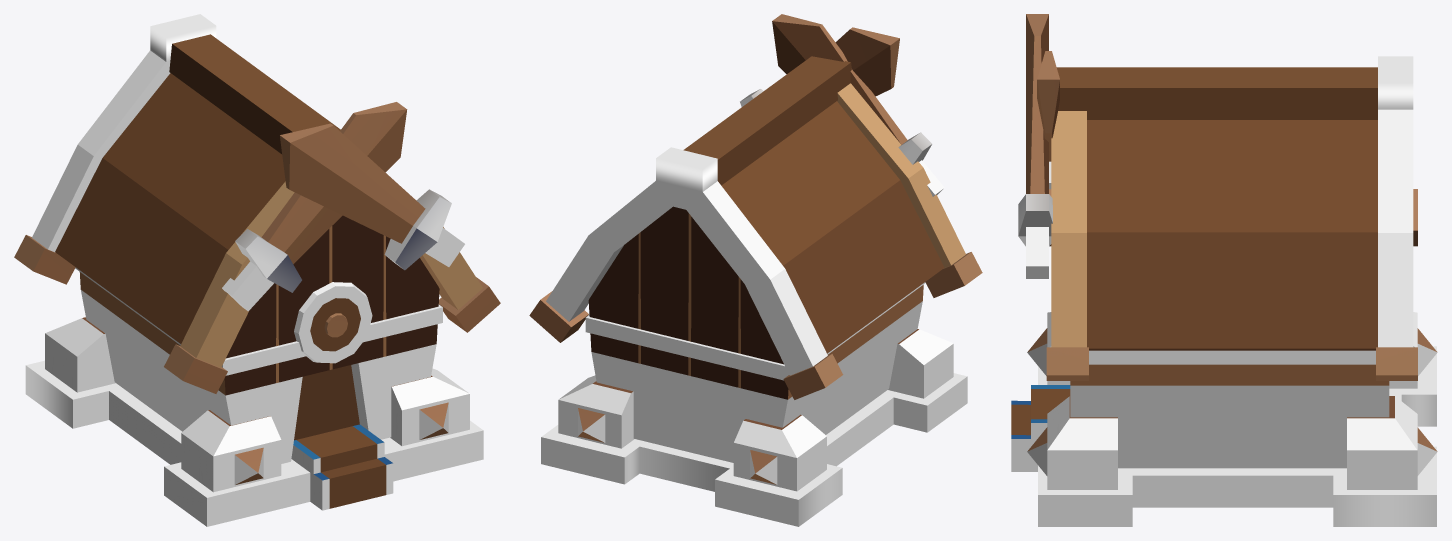
Rendered from Building_ArmyCamp_Lv6.fbx.
The picture shows the model from 3 angles, left to right: view 1: azimuth 30°, elevation 25°; view 2: azimuth 150°, elevation 25°; view 3: azimuth 270°, elevation 25°; orthographic projection. The views are drawn at different scales.
Visible parts, largest first — view 1: Building_ArmyCamp_Lv6; view 2: Building_ArmyCamp_Lv6; view 3: Building_ArmyCamp_Lv6.
Part boxes in pixels (x1=…): Building_ArmyCamp_Lv6: x1=14, y1=14, x2=500, y2=526; Building_ArmyCamp_Lv6: x1=529, y1=14, x2=982, y2=526; Building_ArmyCamp_Lv6: x1=1011, y1=14, x2=1437, y2=526.
Bounding box in the file's own units: 0.94 × 1.05 × 0.9918.
